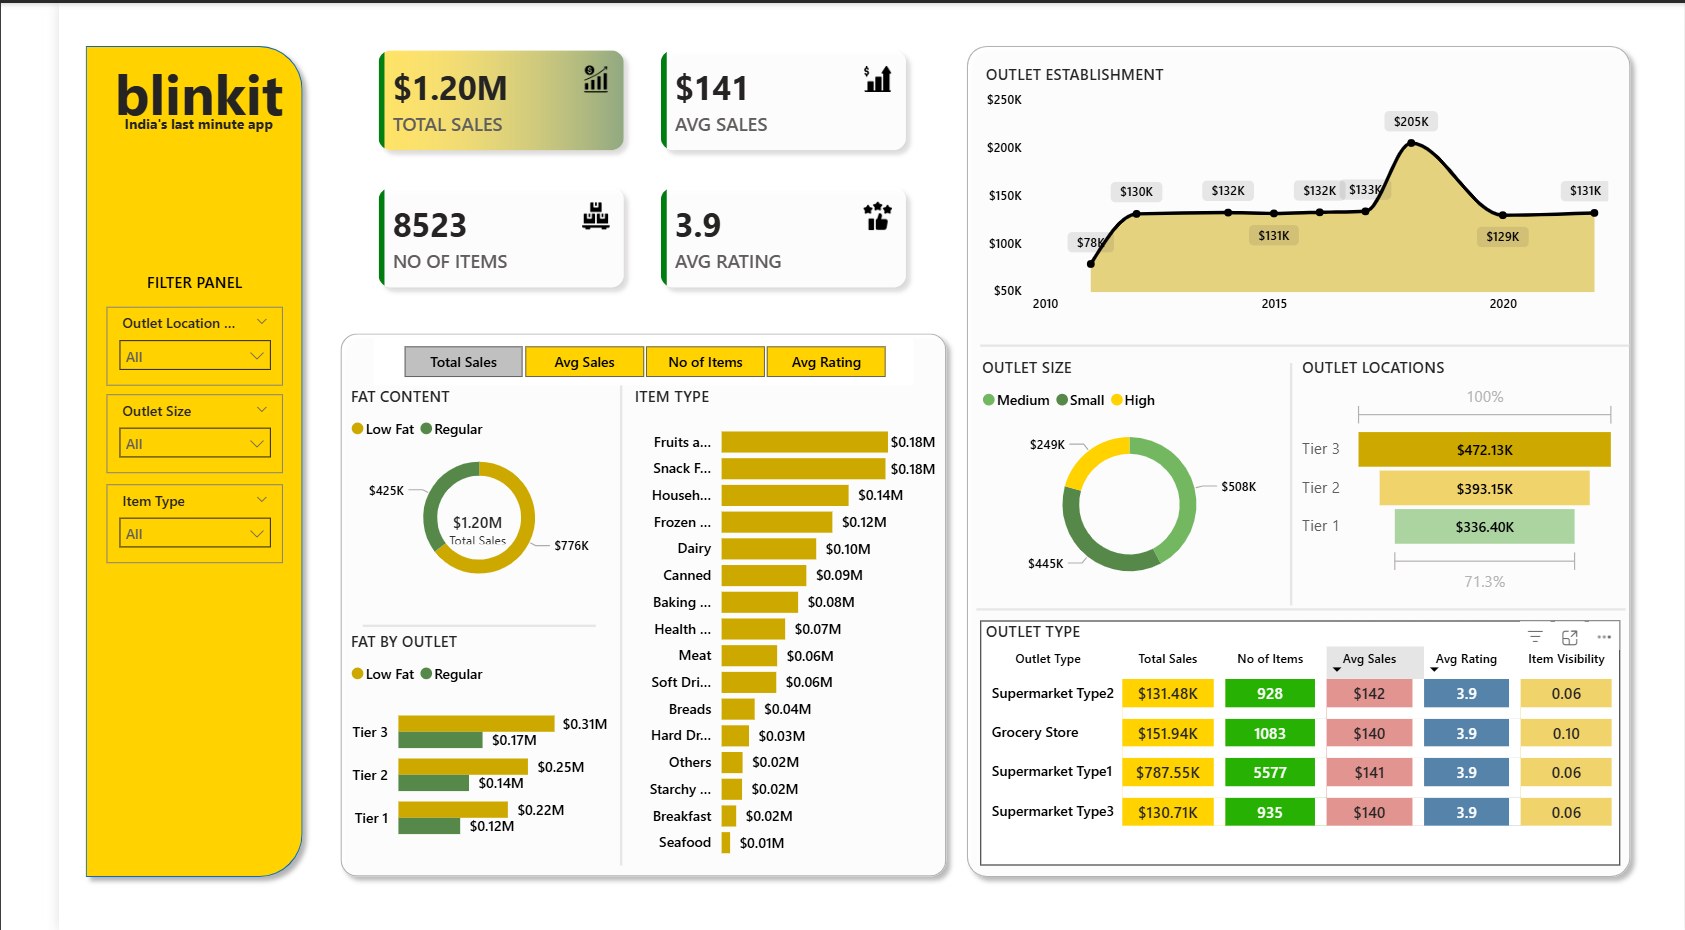

Layout of this report page (visuals, bound fields, positions):
{"tool":"powerbi","page":{"name":"Page 1","canvas":[1400,800],"ordinal":0},"visuals":[{"type":"shape","box":[14.4,27.6,204.9,734.1],"z":0},{"type":"textbox","box":[40.7,89.3,158.9,27.6],"z":1000},{"type":"cardVisual","fields":{"Data":["BlinkIT Grocery Data.Total Sales","BlinkIT Grocery Data.Avg Sales","BlinkIT Grocery Data.No of Items","BlinkIT Grocery Data.Avg Rating"]},"box":[246.9,11.8,513.5,264],"z":2000},{"type":"shape","box":[233.8,275.8,539.8,485.9],"z":3000},{"type":"donutChart","title":"FAT CONTENT","fields":{"Y":["BlinkIT Grocery Data.Total Sales"],"Category":["BlinkIT Grocery Data.Item Fat Content"]},"box":[246.9,329.6,231.1,182.6],"z":4000},{"type":"slicer","fields":{"Values":["Metrics.Metrics"]},"box":[271.9,288.9,464.9,40.7],"z":5000},{"type":"cardVisual","fields":{"Data":["BlinkIT Grocery Data.Total Sales"]},"box":[306,424.2,110.3,59.1],"z":6000},{"type":"clusteredBarChart","title":"FAT BY OUTLET","fields":{"Y":["BlinkIT Grocery Data.Total Sales"],"Series":["BlinkIT Grocery Data.Item Fat Content"],"Category":["BlinkIT Grocery Data.Outlet Location Type"]},"box":[246.9,541.1,231.1,197],"z":7000},{"type":"shape","box":[261.4,531.9,200.9,9.2],"z":8000},{"type":"shape","box":[476.7,329.6,14.4,413.7],"z":9000},{"type":"barChart","title":"ITEM TYPE","fields":{"Y":["BlinkIT Grocery Data.Total Sales"],"Category":["BlinkIT Grocery Data.Item Type"]},"box":[491.2,329.6,269.2,417.6],"z":10000},{"type":"shape","box":[773.5,27.6,589.7,734.1],"z":11000},{"type":"lineChart","title":"OUTLET ESTABLISHMENT","fields":{"Category":["BlinkIT Grocery Data.Outlet Establishment Year"],"Y":["BlinkIT Grocery Data.Total Sales"]},"box":[793.2,51.2,546.3,224.6],"z":12000},{"type":"shape","box":[793.2,285,559.5,19.7],"z":13000},{"type":"donutChart","title":"OUTLET SIZE","fields":{"Y":["BlinkIT Grocery Data.Total Sales"],"Category":["BlinkIT Grocery Data.Outlet Size"]},"box":[790.6,304.7,264,208.8],"z":14000},{"type":"shape","box":[1054.6,309.9,14.4,208.8],"z":15000},{"type":"funnel","title":"OUTLET LOCATIONS","fields":{"Y":["BlinkIT Grocery Data.Total Sales"],"Category":["BlinkIT Grocery Data.Outlet Location Type"]},"box":[1066.4,304.7,281.1,208.8],"z":16000},{"type":"shape","box":[790.6,512.2,559.5,19.7],"z":17000},{"type":"pivotTable","title":"OUTLET TYPE","fields":{"Rows":["BlinkIT Grocery Data.Outlet Type"],"Values":["BlinkIT Grocery Data.Total Sales","BlinkIT Grocery Data.No of Items","BlinkIT Grocery Data.Avg Sales","BlinkIT Grocery Data.Avg Rating","Avg(BlinkIT Grocery Data.Item Visibility)"]},"box":[793.2,531.9,551.6,211.4],"z":18000},{"type":"slicer","fields":{"Values":["BlinkIT Grocery Data.Outlet Location Type"]},"box":[40.7,261.4,152.3,68.3],"z":19000},{"type":"slicer","fields":{"Values":["BlinkIT Grocery Data.Outlet Size"]},"box":[40.7,337.5,152.3,68.3],"z":20000},{"type":"slicer","fields":{"Values":["BlinkIT Grocery Data.Item Type"]},"box":[40.7,415,152.3,68.3],"z":21000},{"type":"textbox","box":[65.7,225.9,102.4,35.5],"z":22000},{"type":"textbox","box":[39.4,39.4,161.5,77.5],"z":23000}]}

Visuals, with their boxes on the page's 1400x800 design canvas (x1, y1, x2, y2). These are canvas units, not pixel positions in the 1685x930 screenshot, which may show the page scaled, cropped or inside an application window:
shape: 14,28,219,762
textbox: 41,89,200,117
cardVisual - BlinkIT Grocery Data.Total Sales x BlinkIT Grocery Data.Avg Sales: 247,12,760,276
shape: 234,276,774,762
"FAT CONTENT" donutChart: 247,330,478,512
slicer - Metrics.Metrics: 272,289,737,330
cardVisual - BlinkIT Grocery Data.Total Sales: 306,424,416,483
"FAT BY OUTLET" clusteredBarChart: 247,541,478,738
shape: 261,532,462,541
shape: 477,330,491,743
"ITEM TYPE" barChart: 491,330,760,747
shape: 774,28,1363,762
"OUTLET ESTABLISHMENT" lineChart: 793,51,1340,276
shape: 793,285,1353,305
"OUTLET SIZE" donutChart: 791,305,1055,514
shape: 1055,310,1069,519
"OUTLET LOCATIONS" funnel: 1066,305,1348,514
shape: 791,512,1350,532
"OUTLET TYPE" pivotTable: 793,532,1345,743
slicer - BlinkIT Grocery Data.Outlet Location Type: 41,261,193,330
slicer - BlinkIT Grocery Data.Outlet Size: 41,338,193,406
slicer - BlinkIT Grocery Data.Item Type: 41,415,193,483
textbox: 66,226,168,261
textbox: 39,39,201,117
